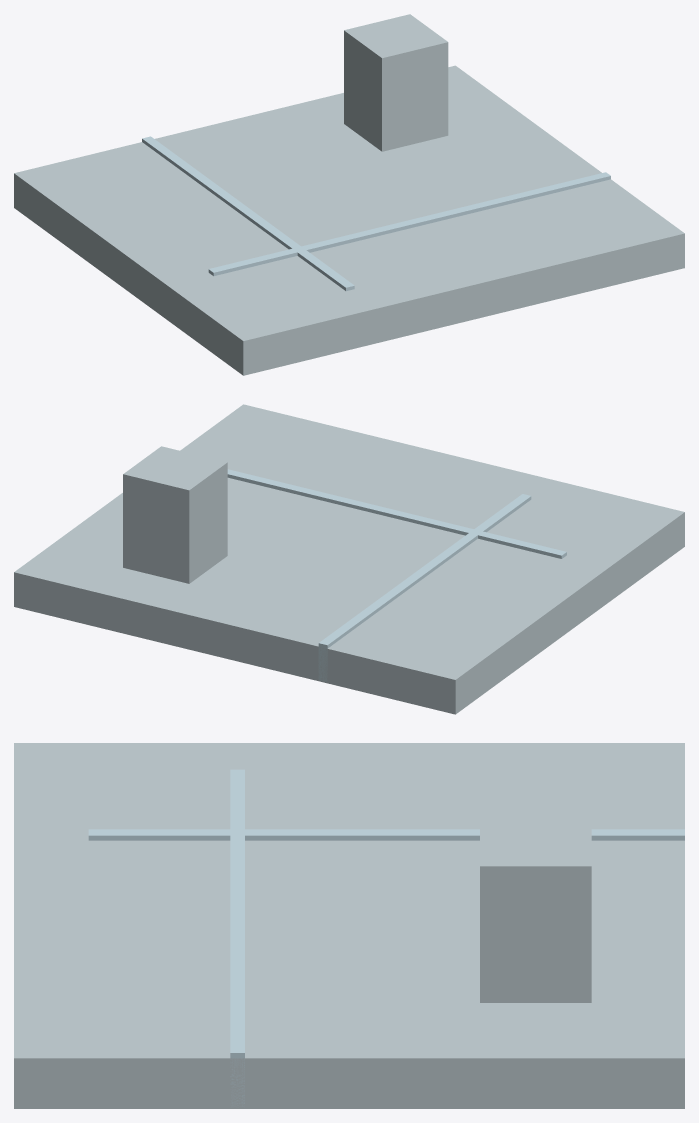
The model's file is prop_icefloe.glb.
The picture shows the model from 3 angles, top to bottom: view 1: azimuth 30°, elevation 25°; view 2: azimuth 150°, elevation 25°; view 3: azimuth 270°, elevation 25°; orthographic projection. The views are drawn at different scales.
Visible parts, largest first — view 1: Prop_IceFloe; view 2: Prop_IceFloe; view 3: Prop_IceFloe.
Part boxes in pixels (x1,y1,x2,y2): Prop_IceFloe: [14, 14, 684, 375]; Prop_IceFloe: [14, 404, 684, 714]; Prop_IceFloe: [14, 743, 684, 1108].
Size of the model in its own units: 2 by 0.555 by 1.8.
